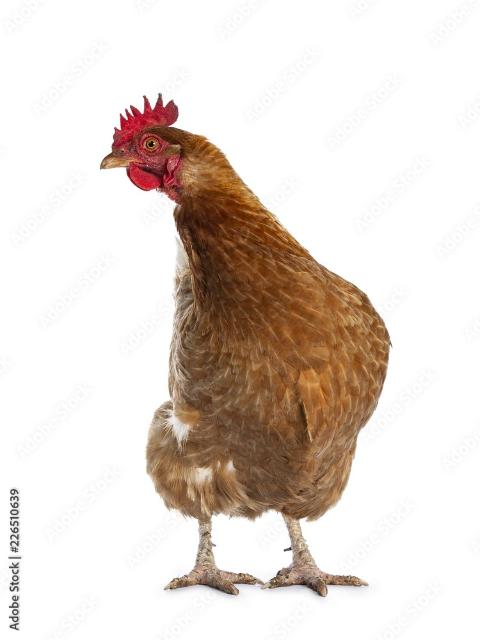Chicken: (101, 90, 390, 596)
